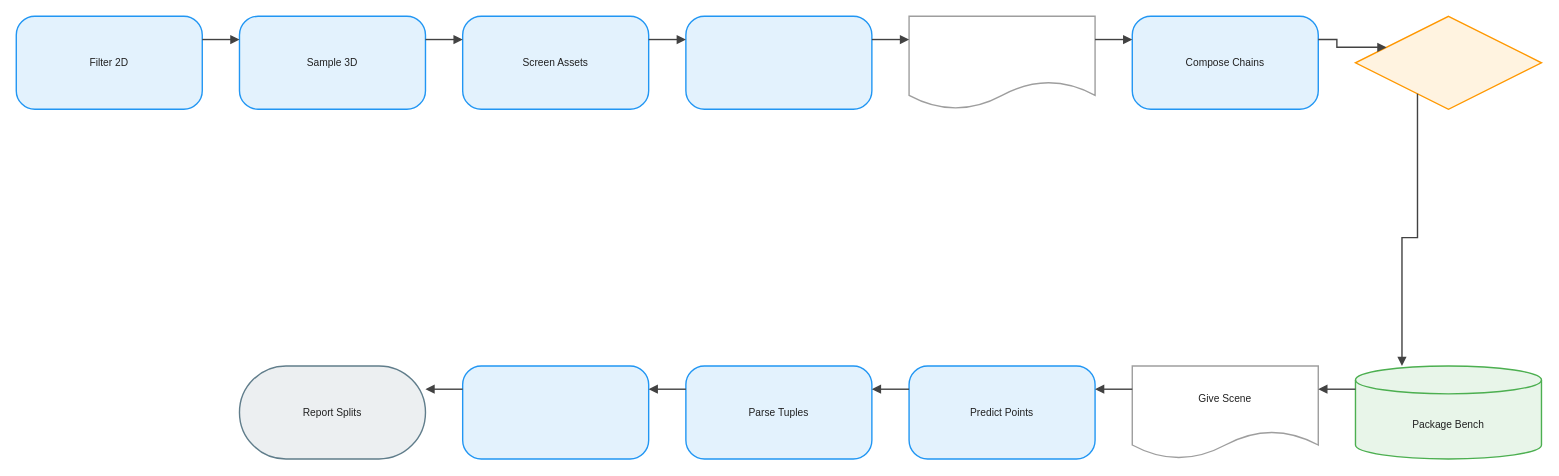
Some shapes in this 1559 by 476 pixel diagram are drawn without their labels. Here are the shapes that lost their labels. From the top down, the centre of each, then its label:
(778,62): Sim Scenes
(1001,62): Set Relations
(1448,62): Holdout Combos
(555,412): Check Target
